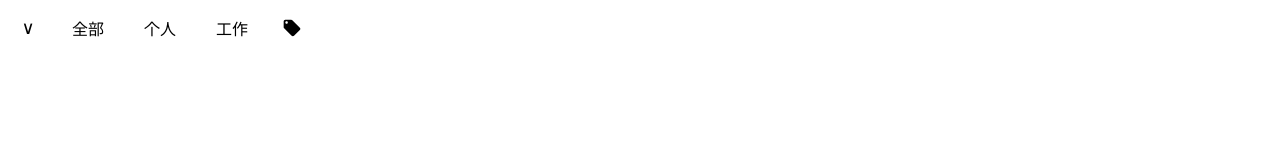
Scenario: TagFilterRow › 说明气泡：点击切换钮弹出当前模式说明；组件外 pointerdown 折叠
Click the button with class "mode-toggle" at [28, 28], box [8,8,48,48]
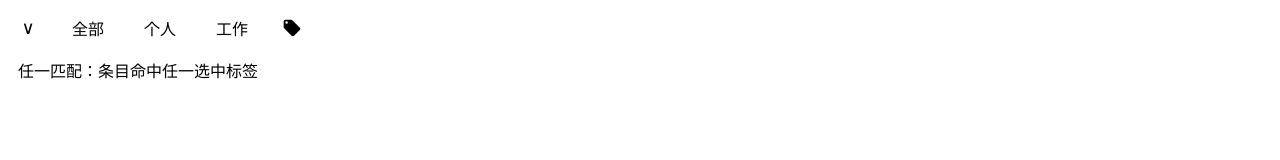
Expected: the tooltip with class "mode-pop" shows "任一匹配", [18,63,258,80]
Press the mouse on the element showing "∨ 任一匹配：条目命中任一选中标签 全部 个人 工作" at [640, 28], box [8,8,1272,48]
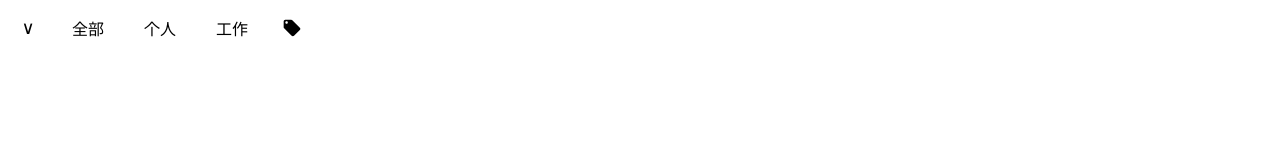
Click the button with class "mode-toggle" at [28, 28], box [8,8,48,48]
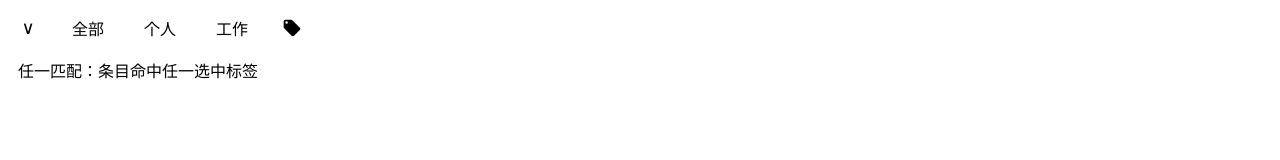
Expected: the tooltip with class "mode-pop" is shown, [18,63,258,80]
